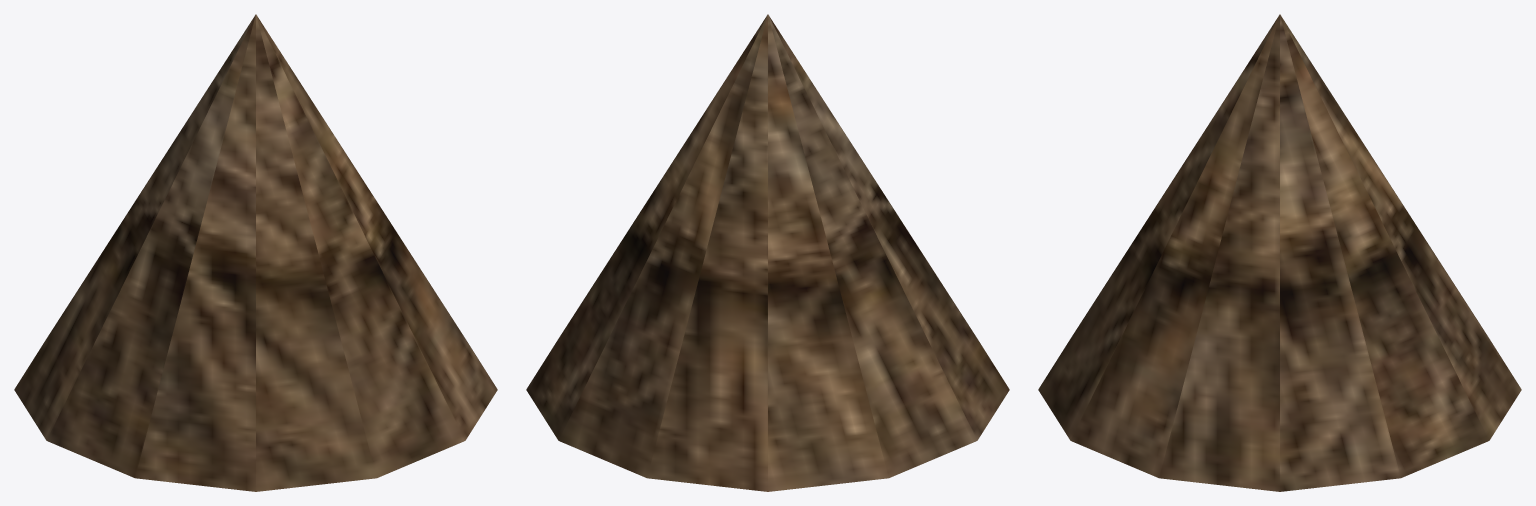
Rendered from hay.glb.
3 renders of one model, left to right at view 1: azimuth 30°, elevation 25°; view 2: azimuth 150°, elevation 25°; view 3: azimuth 270°, elevation 25°, orthographic.
Parts seen in each view (by area): view 1: part_0; view 2: part_0; view 3: part_0.
Boxes of the visible parts, x1=… form: part_0: x1=14, y1=14, x2=497, y2=491; part_0: x1=526, y1=14, x2=1009, y2=491; part_0: x1=1038, y1=14, x2=1521, y2=491.
Bounding box in the file's own units: 0.7233 × 0.62 × 0.7233.
1 material, 1 textured.
